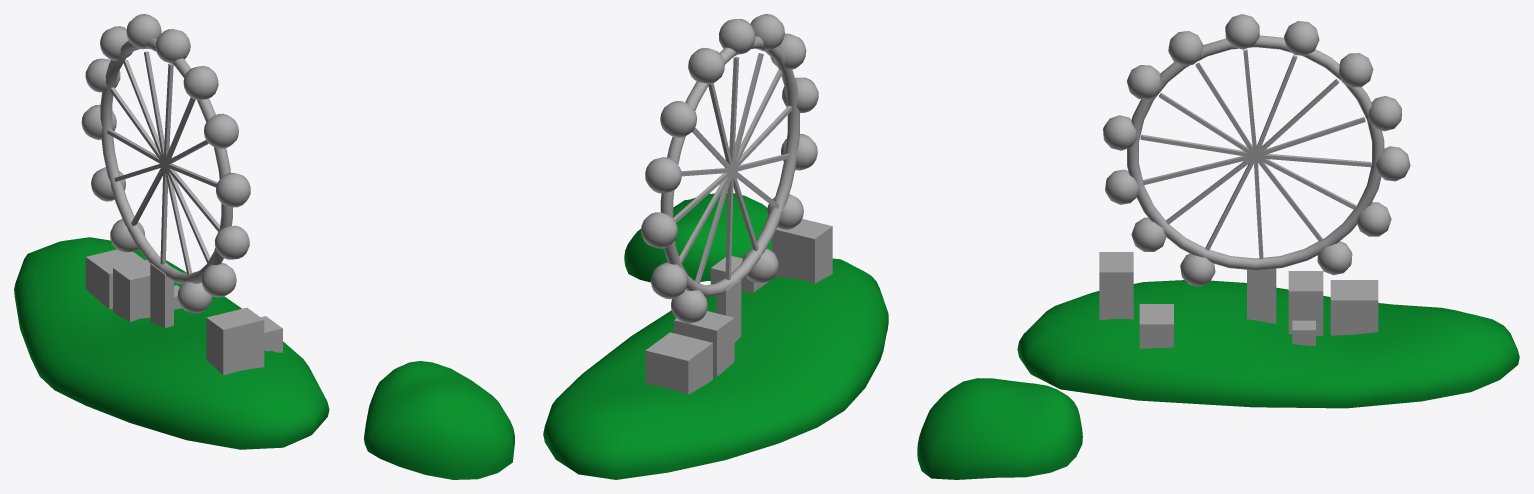
The model's file is noriaSkyline.fbx.
The picture shows the model from 3 angles, left to right: view 1: azimuth 30°, elevation 25°; view 2: azimuth 150°, elevation 25°; view 3: azimuth 270°, elevation 25°; orthographic projection. The views are drawn at different scales.
Visible parts, largest first — view 1: noria1; view 2: noria1; view 3: noria1.
Part boxes in pixels (x1,y1,x2,y2): noria1: (14, 14, 514, 479); noria1: (543, 14, 888, 479); noria1: (917, 14, 1519, 479).
Size of the model in its own units: 59519 by 65187 by 95459.
